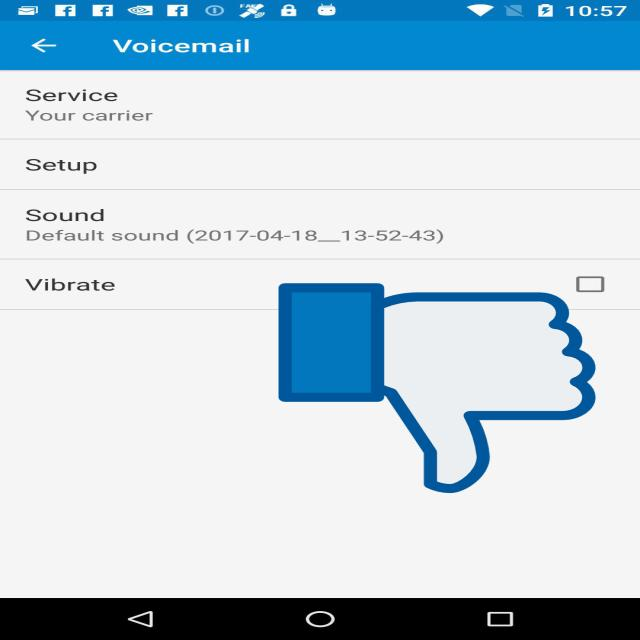obstruction: (278, 278, 596, 498)
